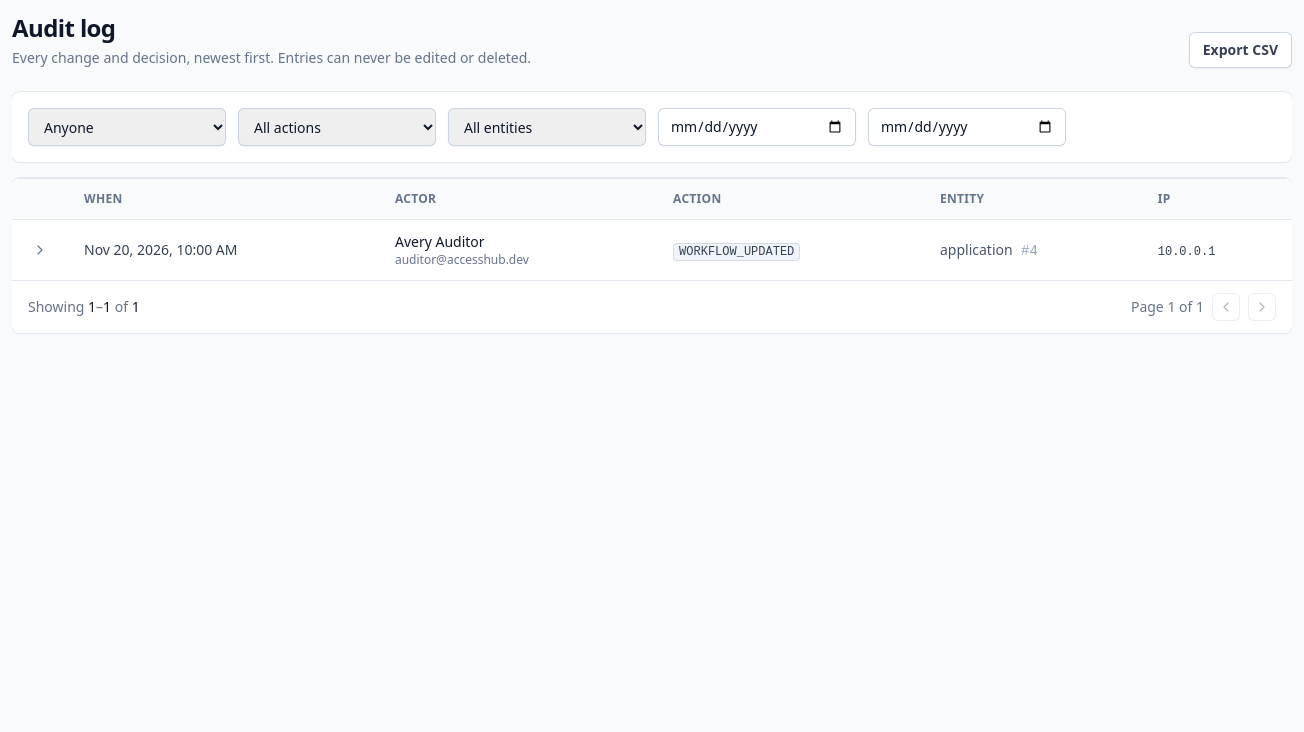
Test case: Audit log export › reports a failed export
Click the button "Export CSV".
click(1240, 50)  # box [1189,32,1292,68]
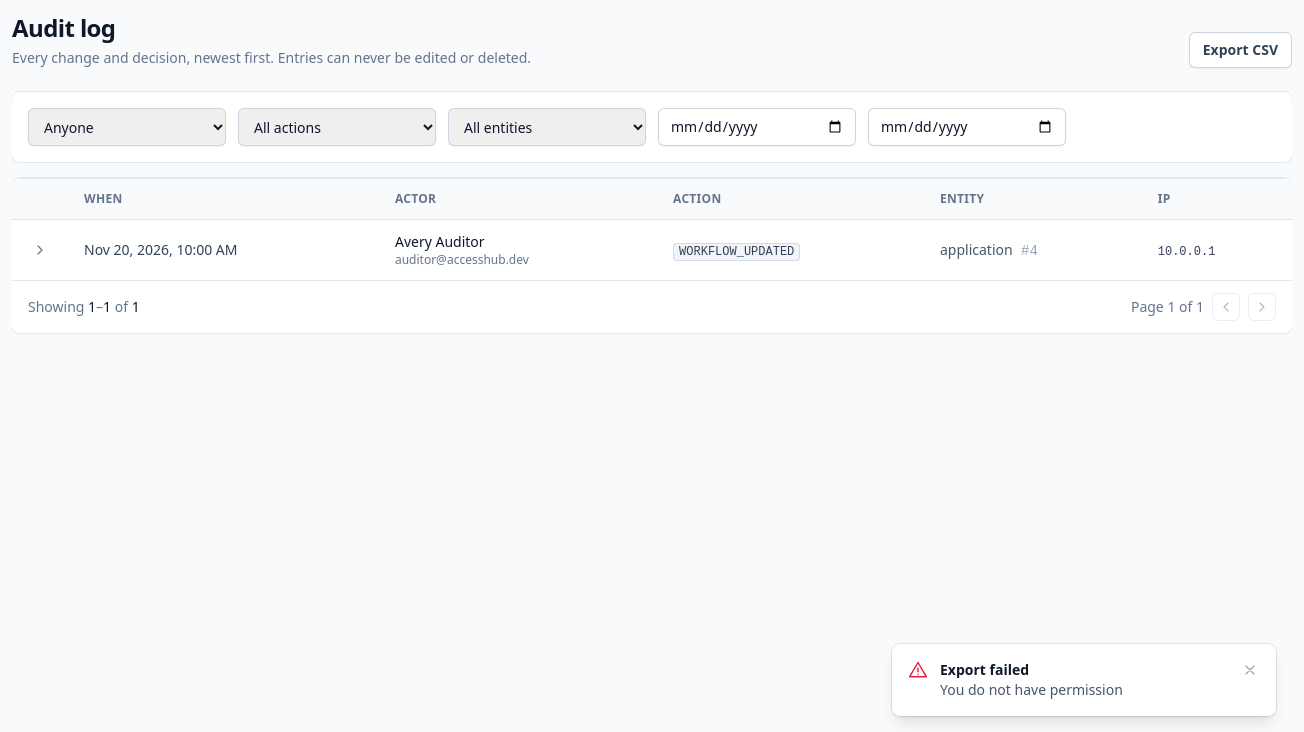
Now the message shows "You do not have permission", box [940,680,1123,699]
